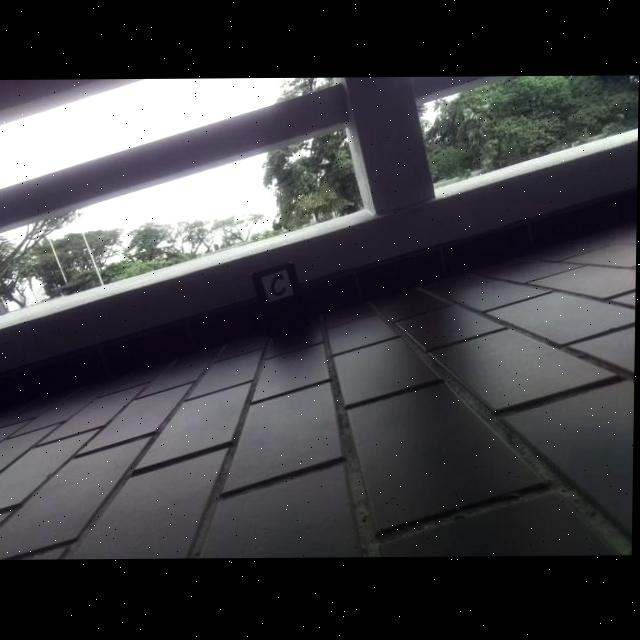C: (272, 274, 289, 297)
